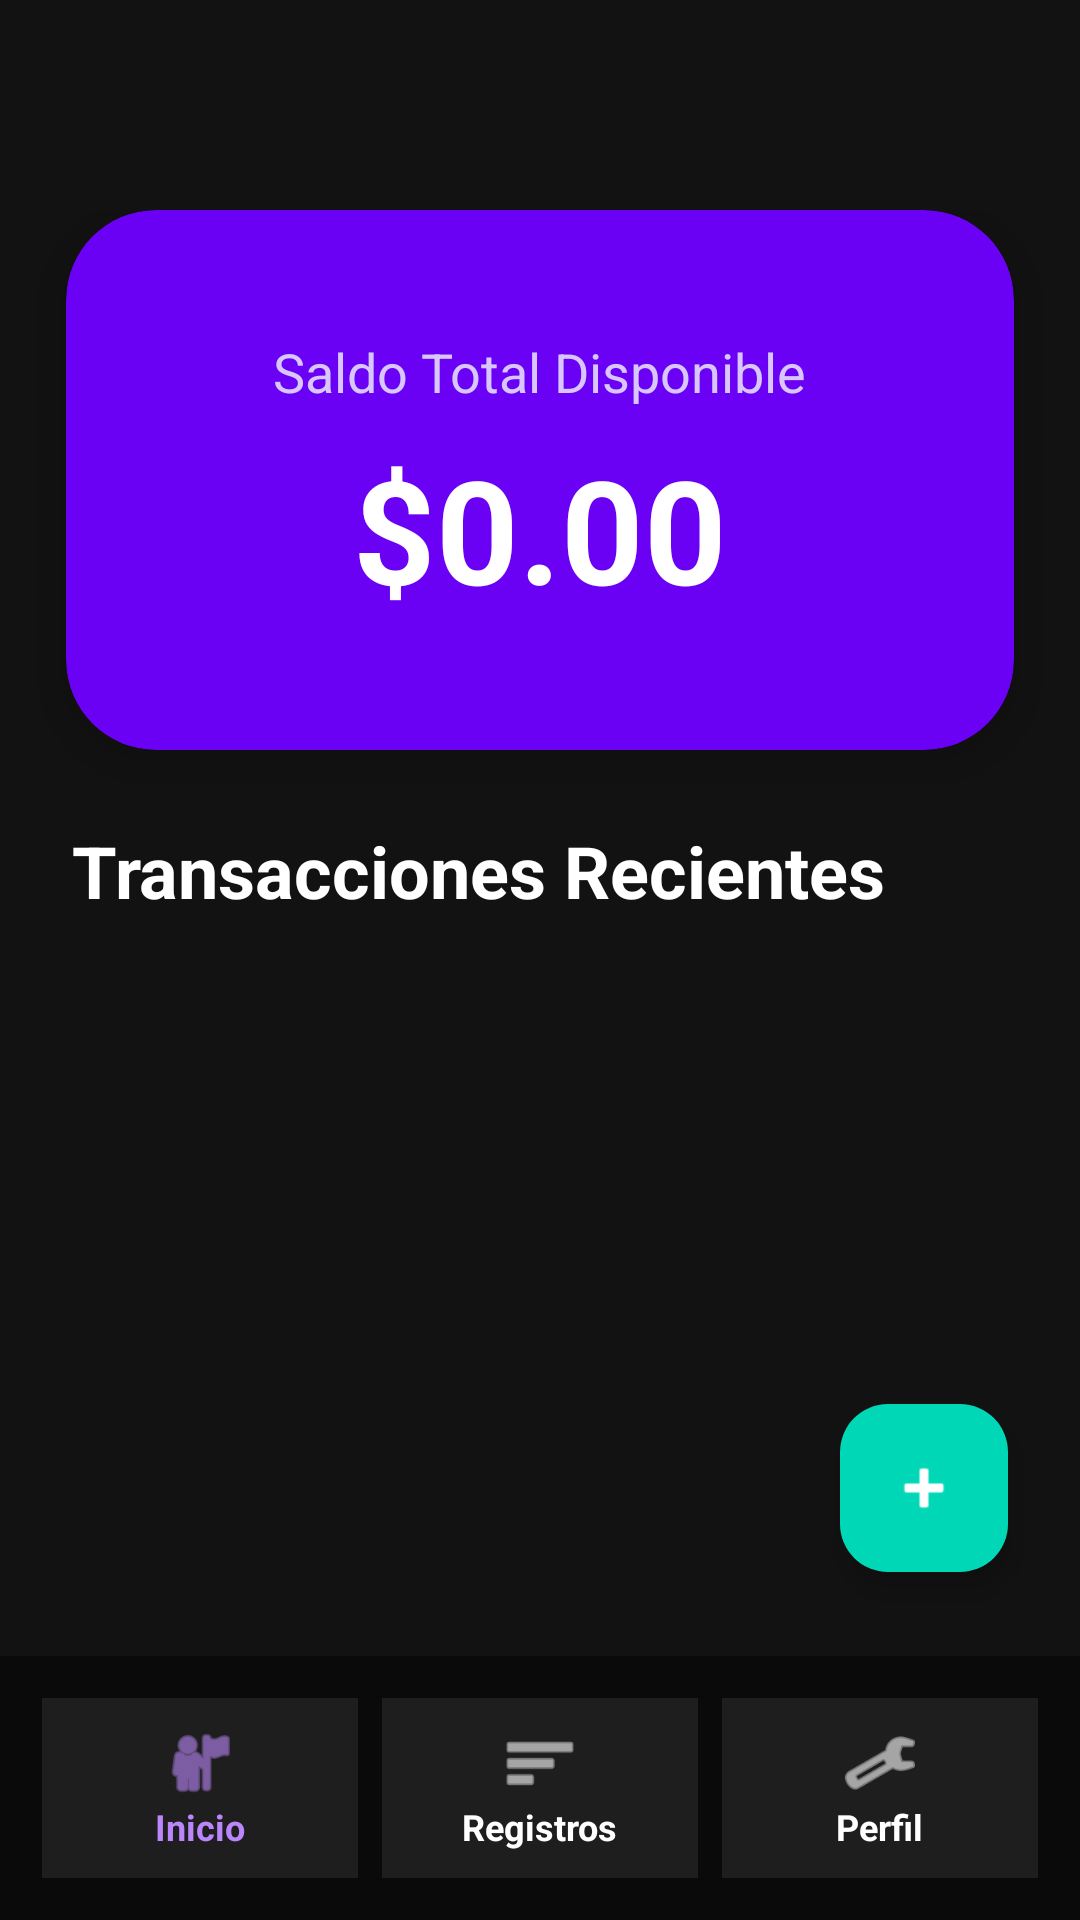

Where icons sit on this 1080w x 1920h app screen, as [x1=x1, y1=y1, x2=x2, y2=y2]:
add: [x1=840, y1=1404, x2=1008, y2=1572]
manage: [x1=845, y1=1736, x2=915, y2=1790]
myplaces: [x1=171, y1=1734, x2=230, y2=1792]
sort by size: [x1=506, y1=1742, x2=574, y2=1785]
